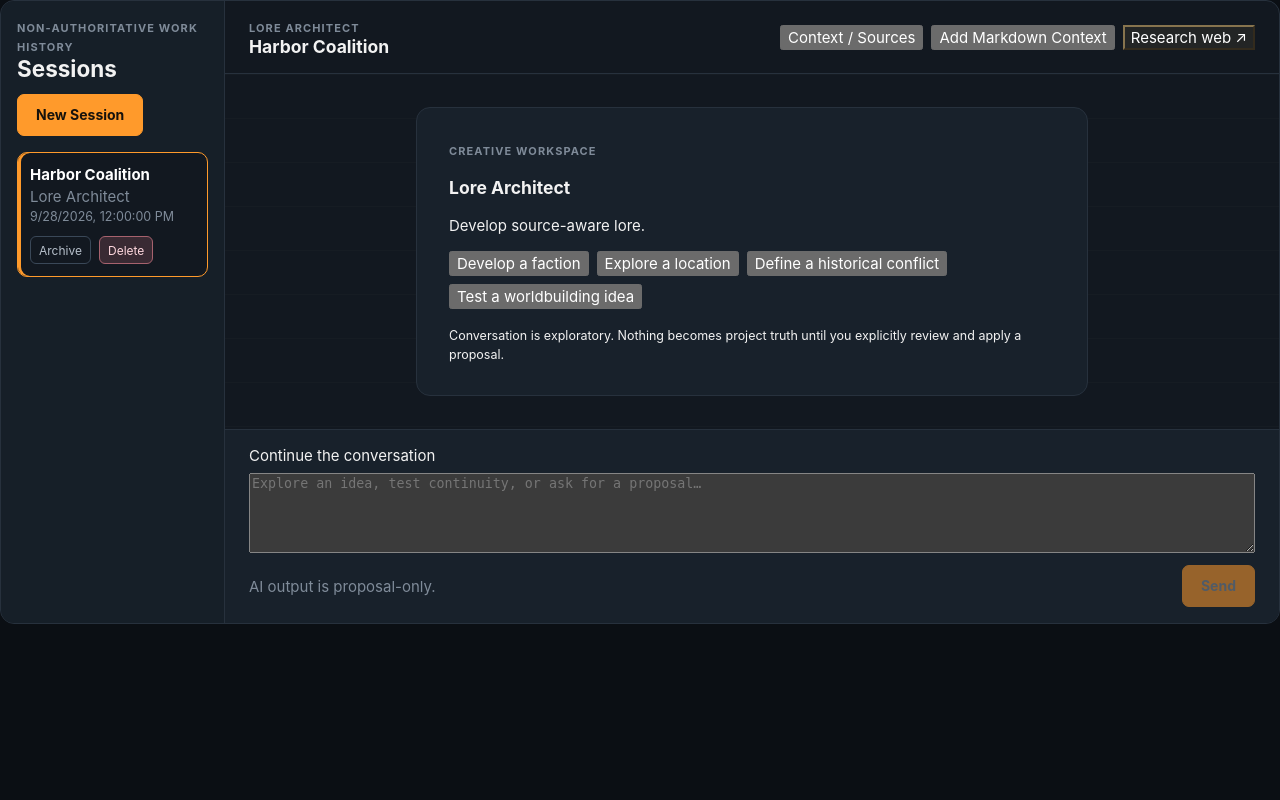
Scenario: Writers' Room › stores only project-relative Markdown selections and enforces the session bound
Expected: the heading "Harbor Coalition" is shown, 249,36 -> 389,57
Click the button "Add Markdown Context" at (1023, 37), box 931,24 -> 1115,50
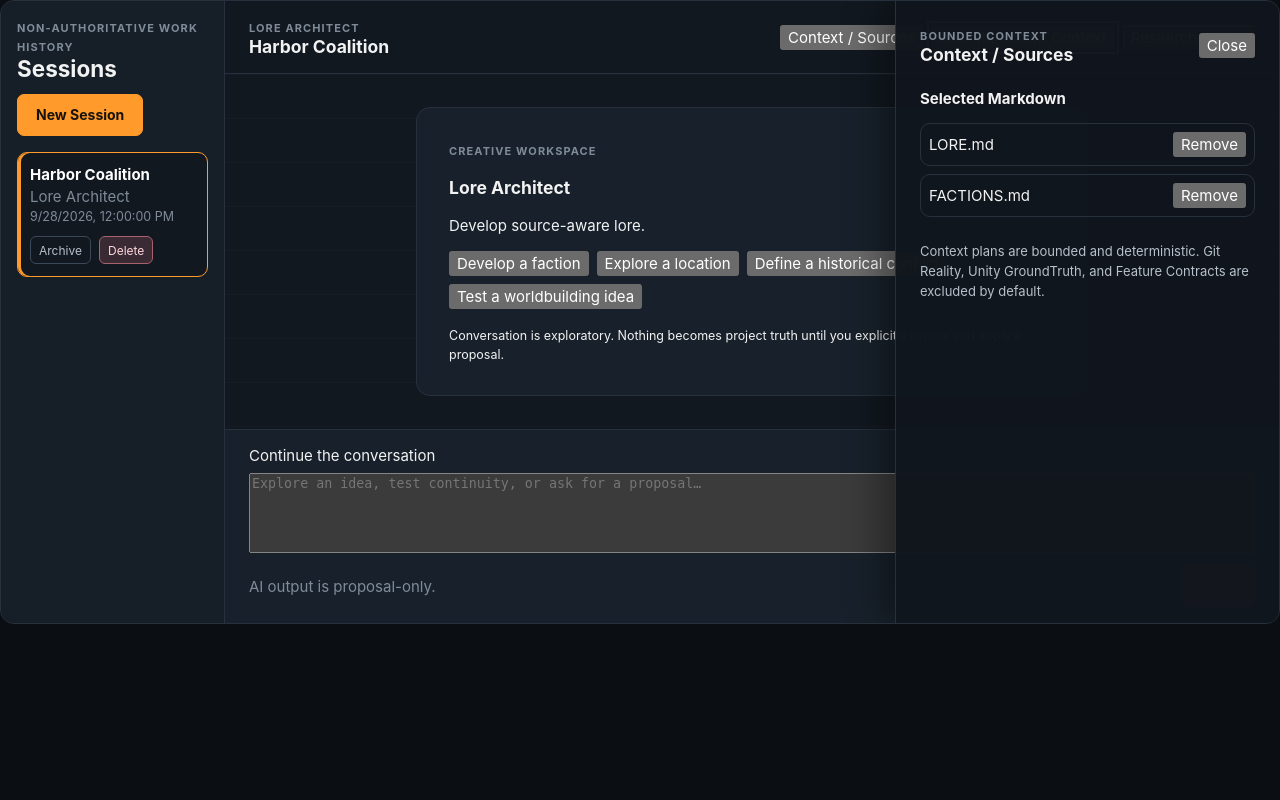
Now the text "FACTIONS.md" is shown, box 929,186 -> 1030,205
